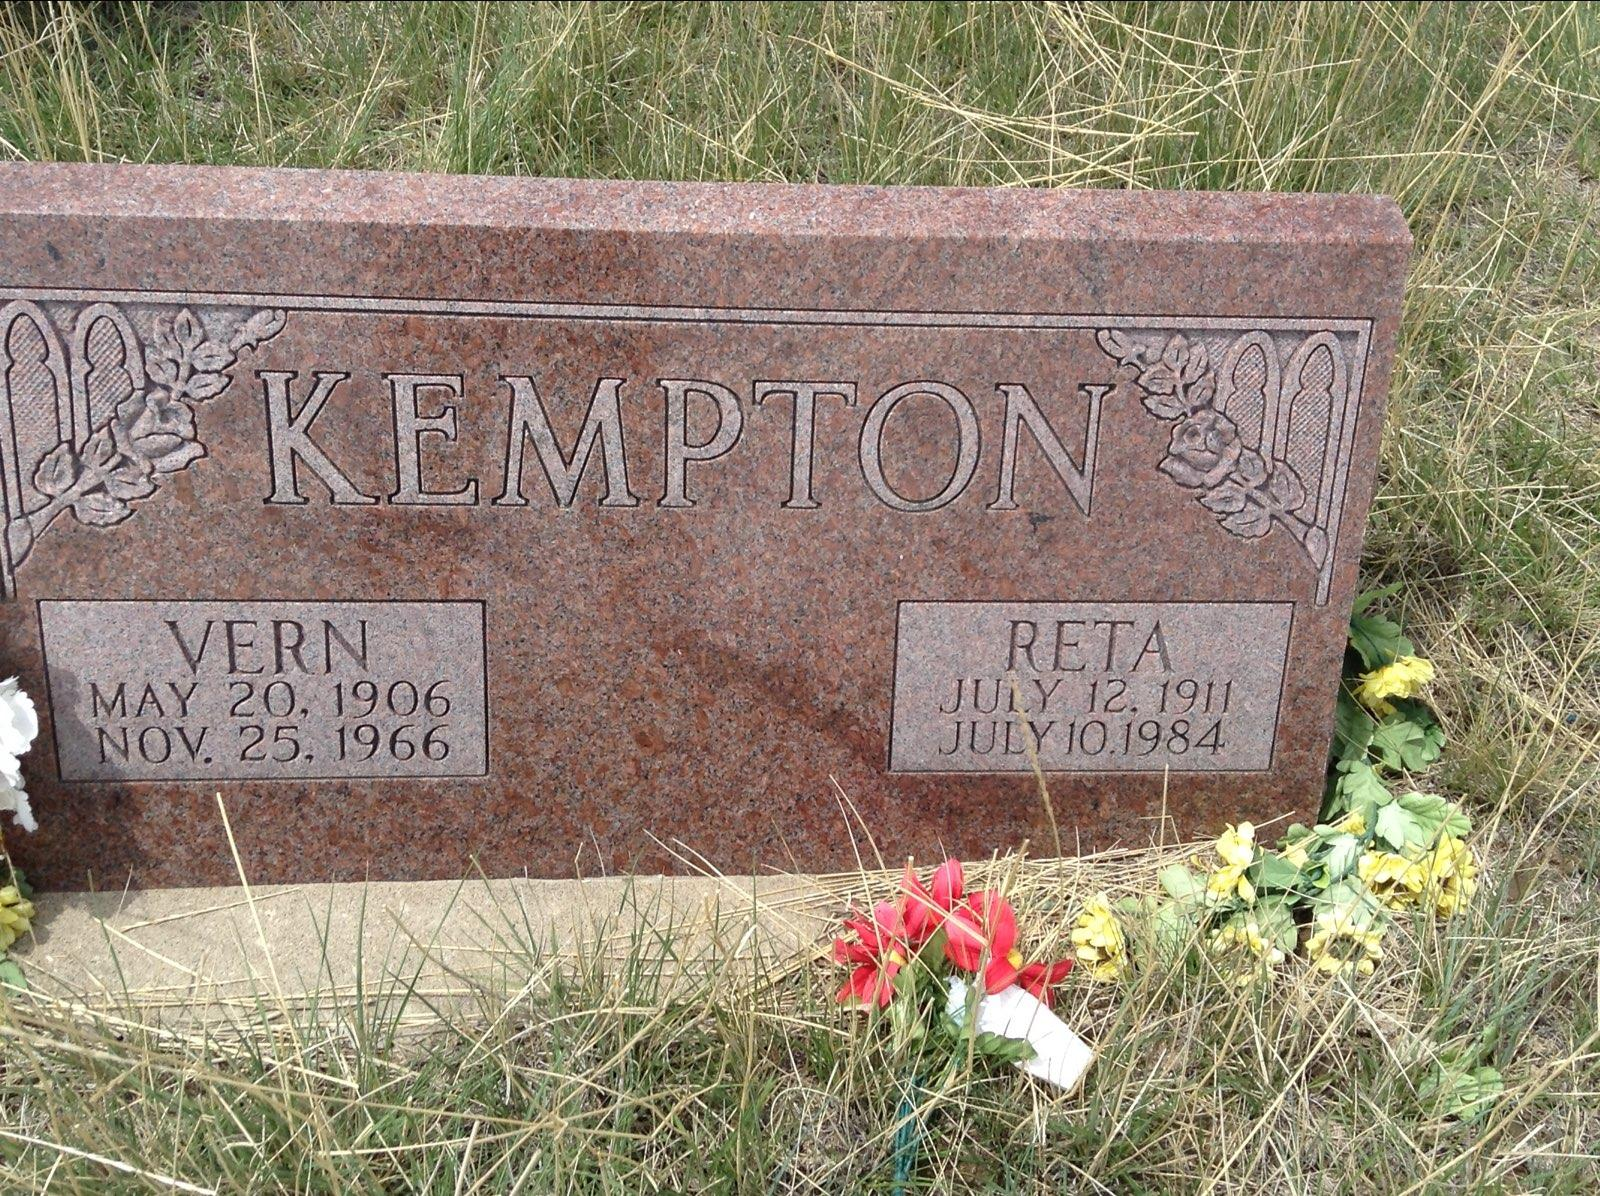upright: (0, 148, 1410, 981)
